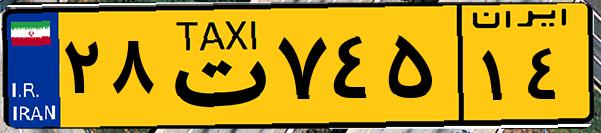1: (475, 38, 525, 113)
2: (57, 26, 110, 100)
4: (330, 28, 385, 110), (525, 38, 570, 115)
5: (385, 28, 445, 110)
7: (270, 28, 330, 110)
8: (110, 28, 158, 98)
ت: (158, 12, 270, 120)
